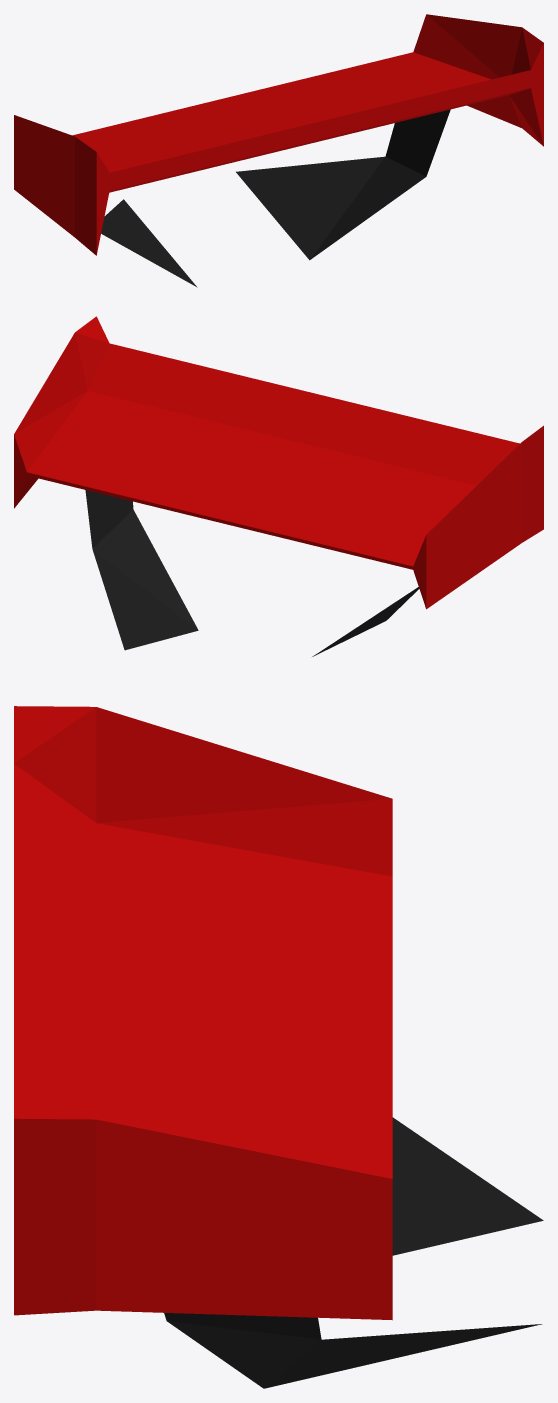
File: rear_wing.obj
3 views of the same model, one above another, from view 1: azimuth 30°, elevation 25°; view 2: azimuth 150°, elevation 25°; view 3: azimuth 270°, elevation 25° (orthographic). The views are drawn at different scales.
Parts seen in each view (by area): view 1: Plane.008, Plane.009; view 2: Plane.008, Plane.009; view 3: Plane.008, Plane.009.
Part boxes in pixels (<box>): Plane.008: <box>14,14,543,255</box>; Plane.009: <box>101,109,450,287</box>; Plane.008: <box>14,316,543,609</box>; Plane.009: <box>85,490,419,656</box>; Plane.008: <box>14,706,392,1320</box>; Plane.009: <box>164,1117,543,1388</box>.
Bounding box in the file's own units: 1.96 × 0.9396 × 1.06.
